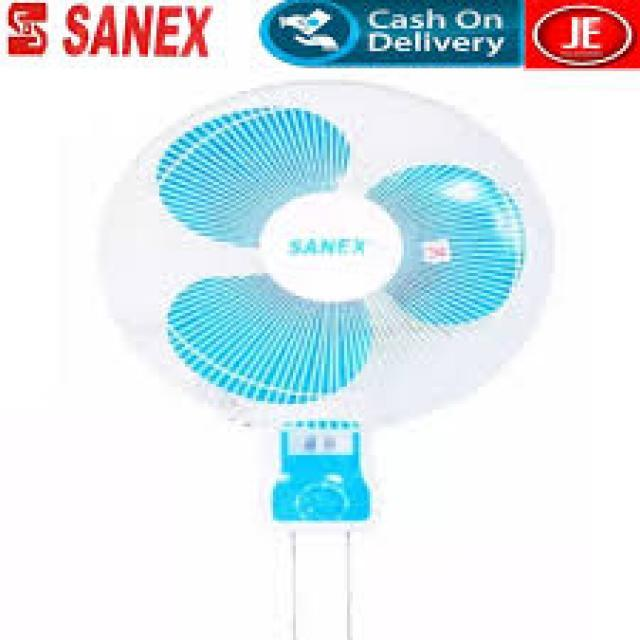fan: (83, 73, 580, 573)
